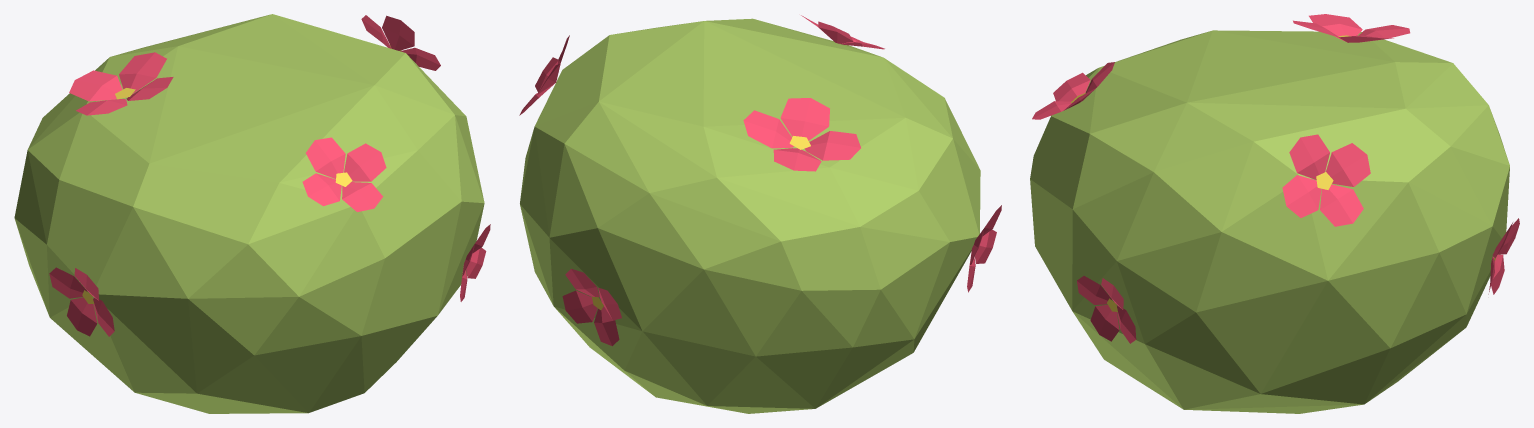
Rendered from FlowerBush_f_m_03.fbx.
3 views of the same model, side by side, from view 1: azimuth 30°, elevation 25°; view 2: azimuth 150°, elevation 25°; view 3: azimuth 270°, elevation 25° (orthographic). The views are drawn at different scales.
Parts seen in each view (by area): view 1: FlowerBush_f_m_03_LOD0; view 2: FlowerBush_f_m_03_LOD0; view 3: FlowerBush_f_m_03_LOD0.
Part boxes in pixels (x1,y1,x2,y2): FlowerBush_f_m_03_LOD0: [14, 14, 490, 413]; FlowerBush_f_m_03_LOD0: [519, 15, 1001, 413]; FlowerBush_f_m_03_LOD0: [1030, 14, 1519, 413].
Size of what is drawn, in the model's own units: 160 by 119 by 155.
